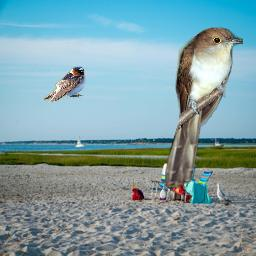Cuckoo: (165, 26, 243, 188)
Swallow: (43, 66, 86, 104)
